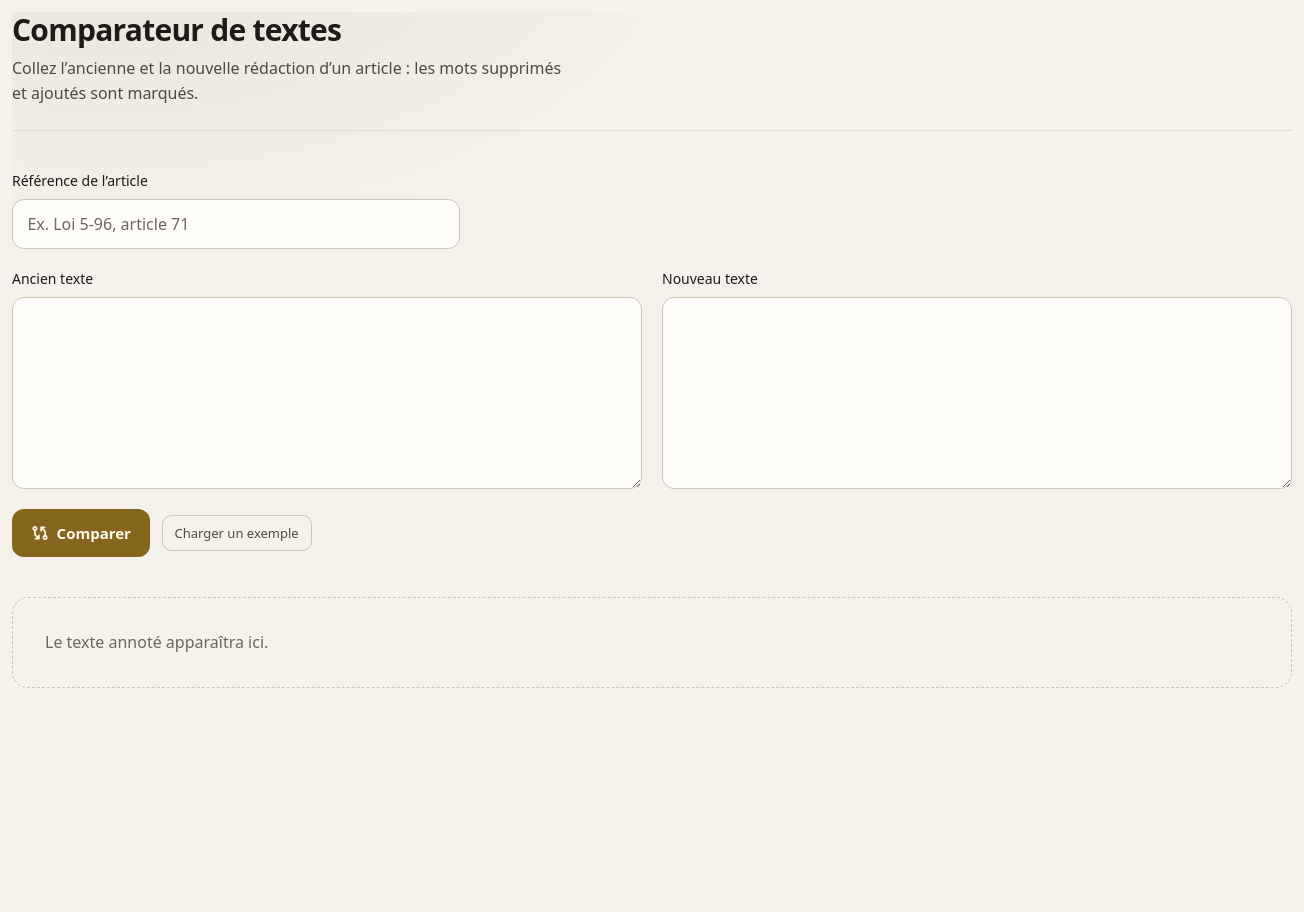
Test: Views Integration Tests › CompareView › renders legislative redline comparator, loads example and executes diff
Clicking example button automatically populates and runs comparison
Step 1. Click the button "Charger un exemple" → (237, 533), box x1=162 y1=515 x2=312 y2=551
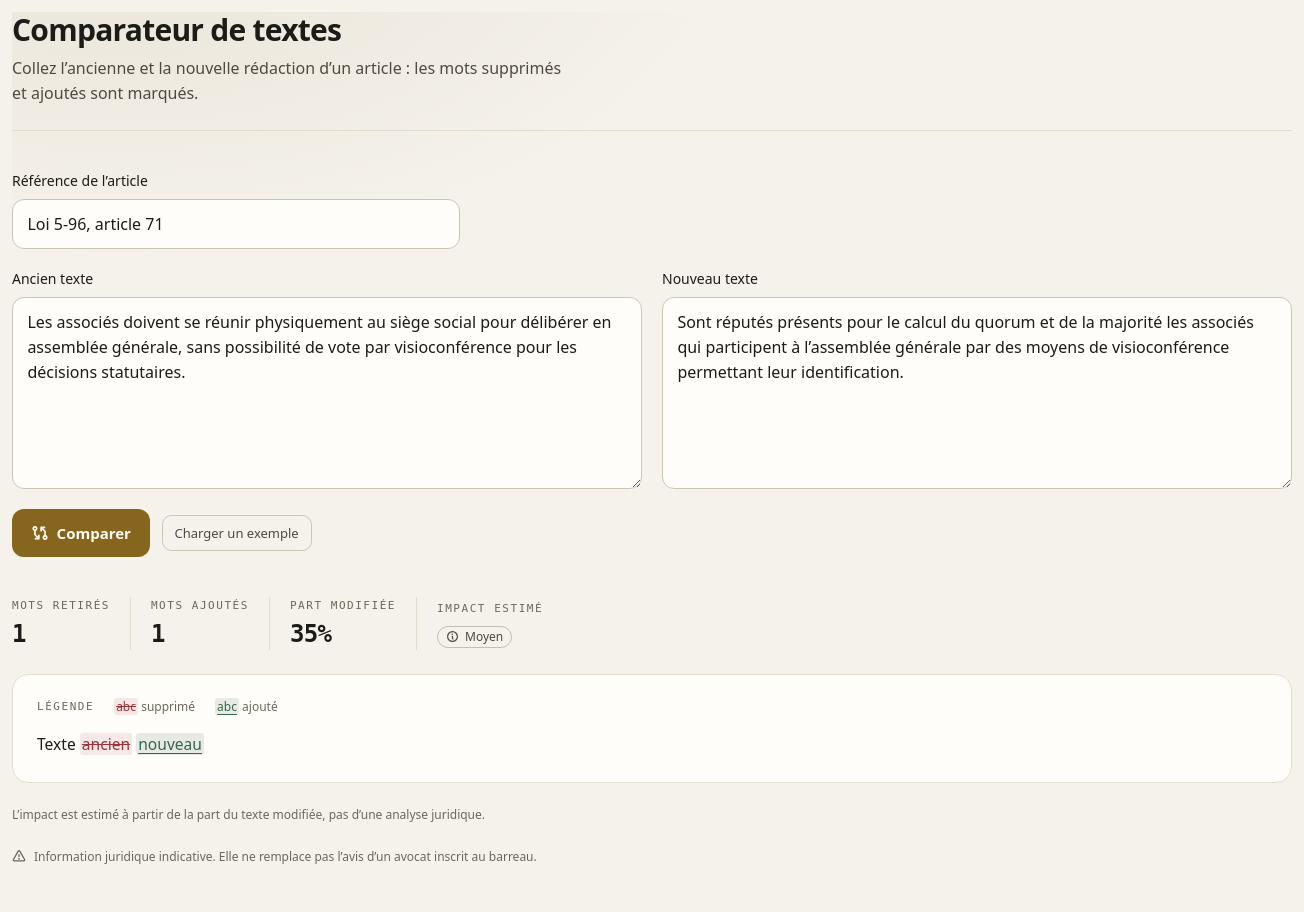
Expected: the text "35%" is shown, x1=290 y1=620 x2=332 y2=648
